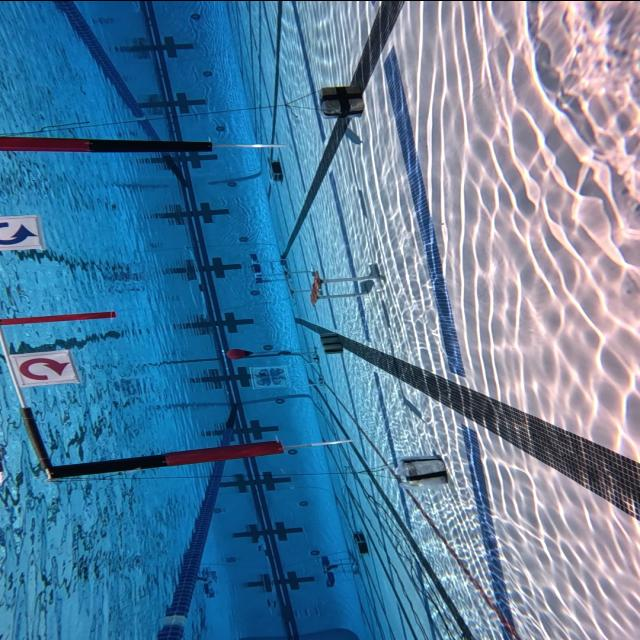red_side: (8, 348, 80, 387)
